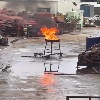fire: (40, 27, 59, 39)
